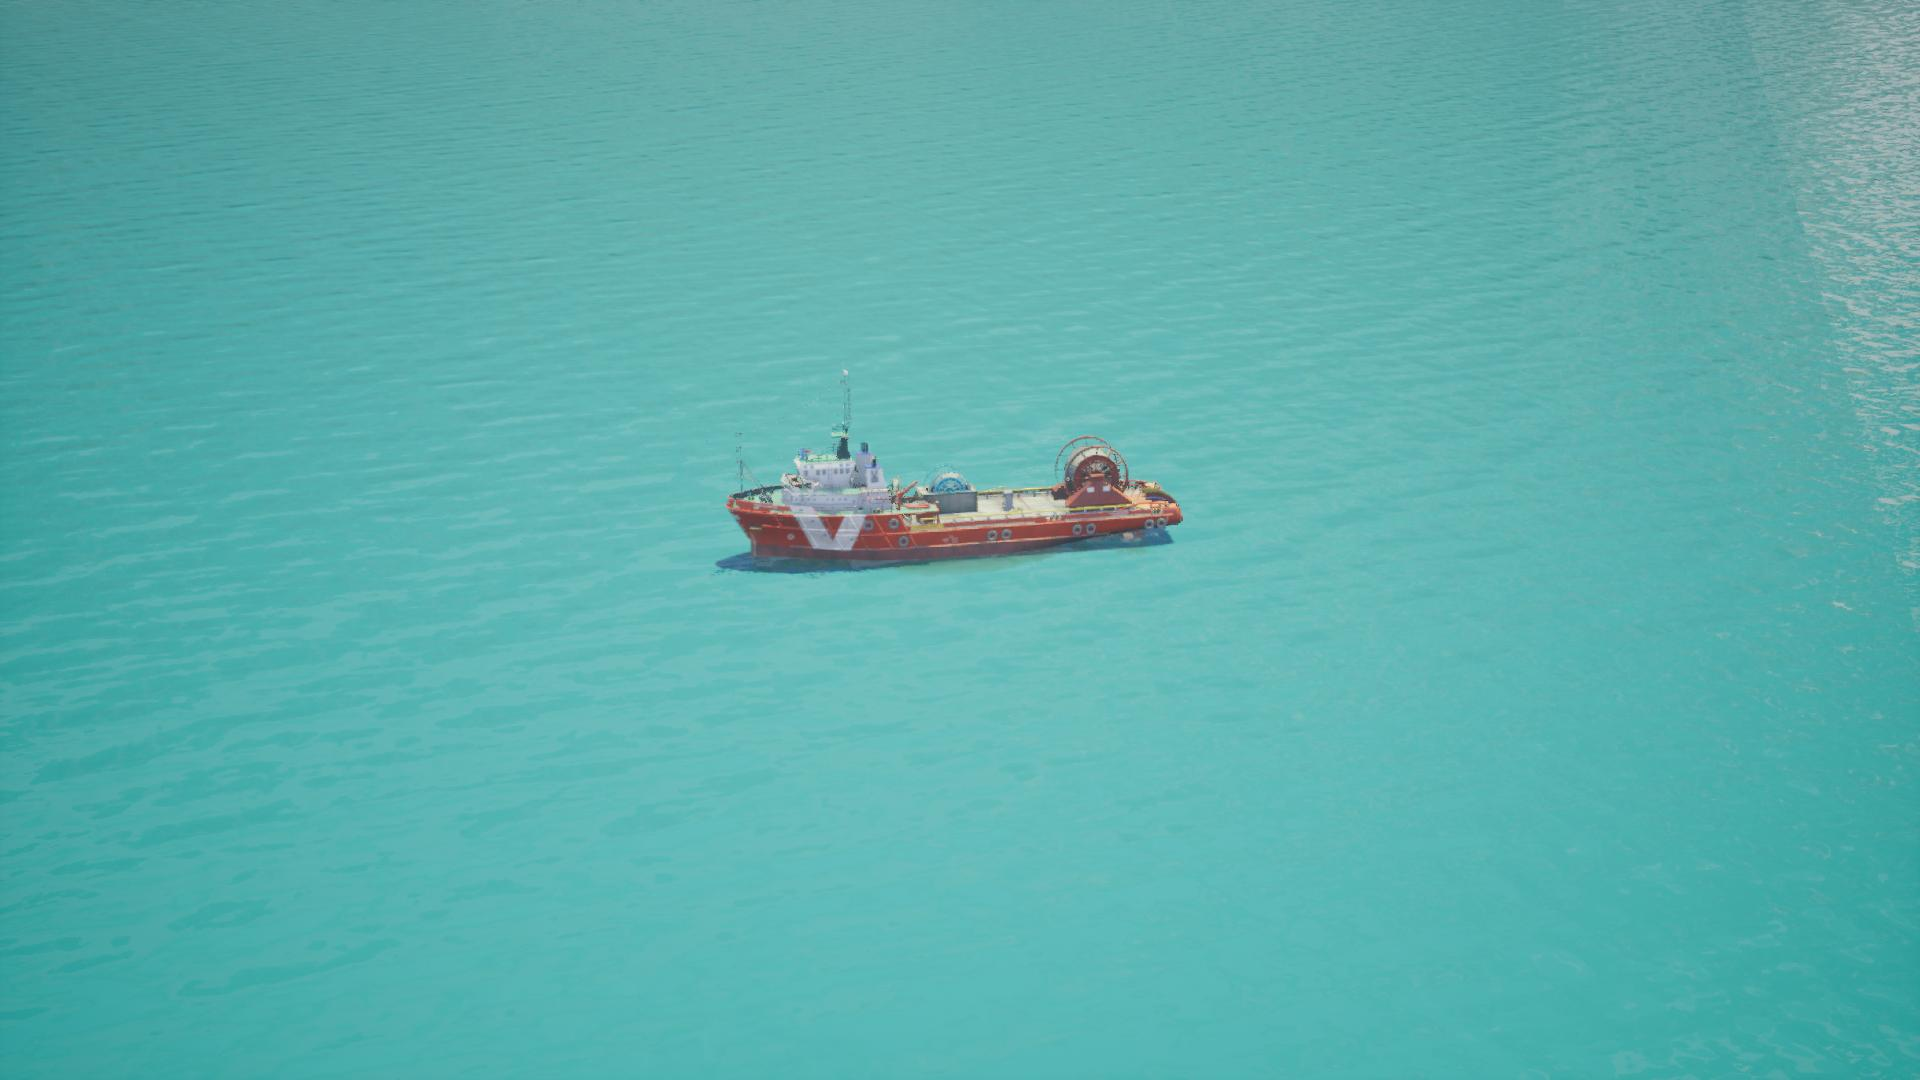Tug Boat: (721, 422, 1183, 574)
